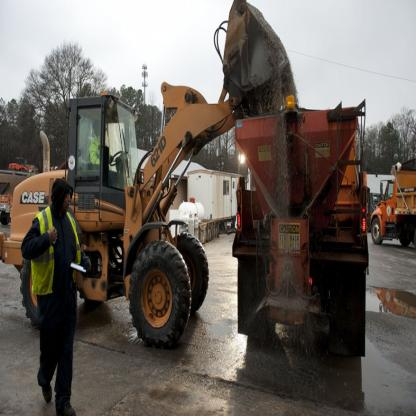bull_dozer/loader/grader: (12, 6, 294, 384)
dump_truck: (227, 95, 386, 373)
person: (21, 170, 88, 410)
